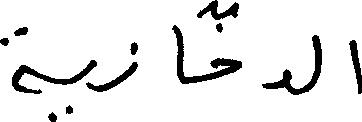X: (0, 22, 45, 98), (213, 0, 242, 83), (265, 64, 290, 97), (348, 35, 361, 98), (309, 30, 321, 94), (175, 20, 184, 88), (81, 55, 96, 95), (127, 37, 136, 82)
